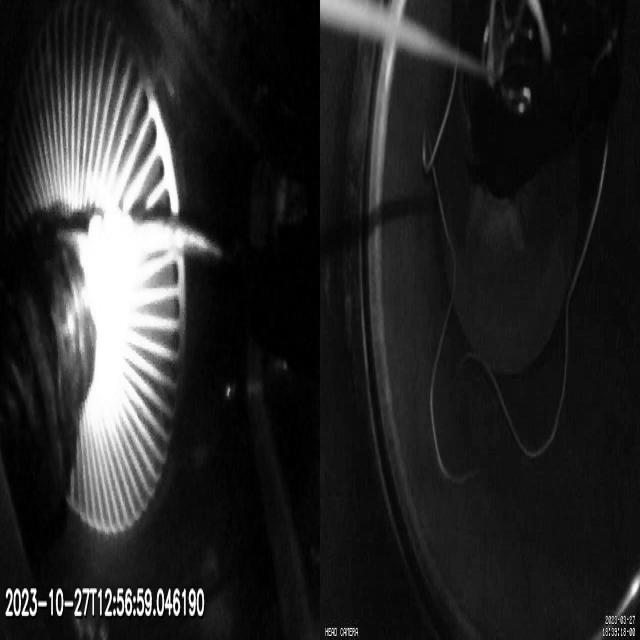white-dots: (87, 207, 133, 244)
